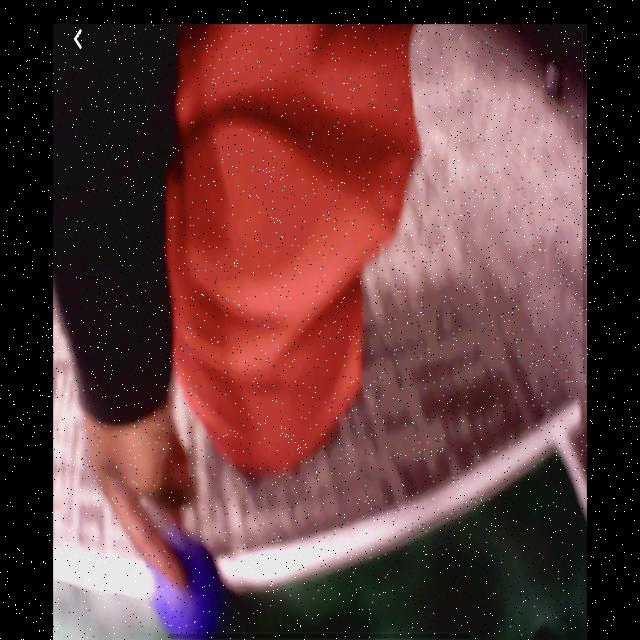ball: (148, 529, 223, 639)
